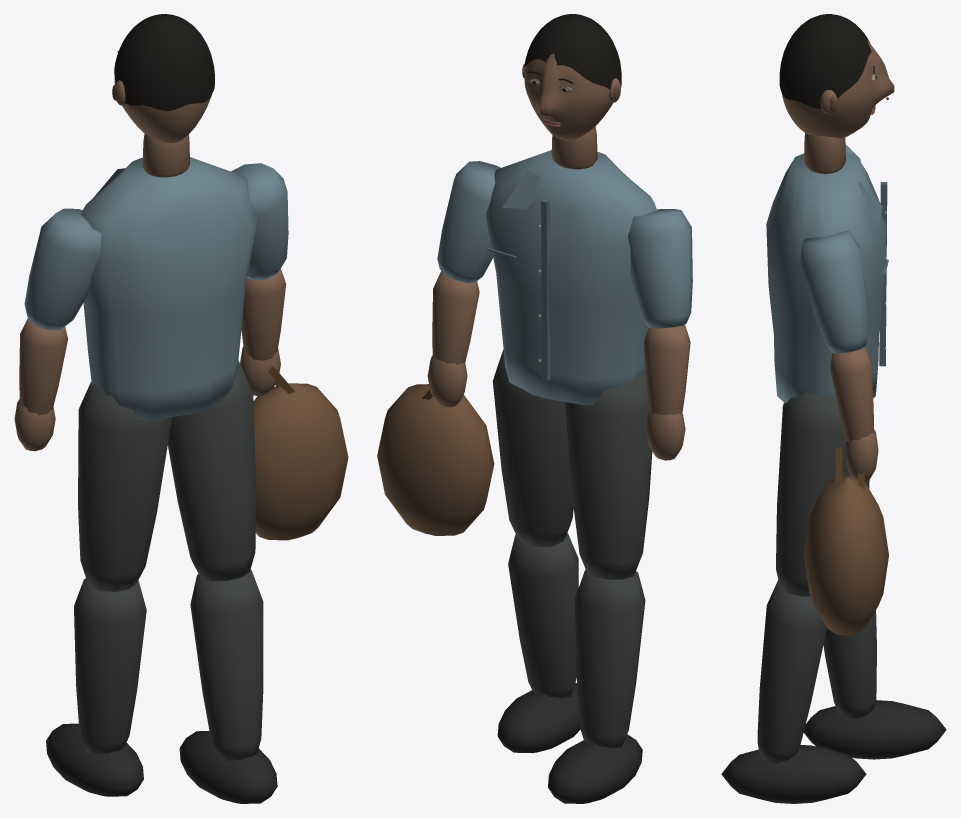
Rendered from passenger_man.glb.
3 renders of one model, left to right at view 1: azimuth 30°, elevation 25°; view 2: azimuth 150°, elevation 25°; view 3: azimuth 270°, elevation 25°, orthographic. The views are drawn at different scales.
Parts seen in each view (by area): view 1: passenger_man; view 2: passenger_man; view 3: passenger_man.
Part boxes in pixels (x1,y1,x2,y2): passenger_man: (14, 14, 348, 803); passenger_man: (377, 14, 692, 803); passenger_man: (721, 14, 946, 803).
Size of the model in its own units: 0.728 by 1.67 by 0.45.
